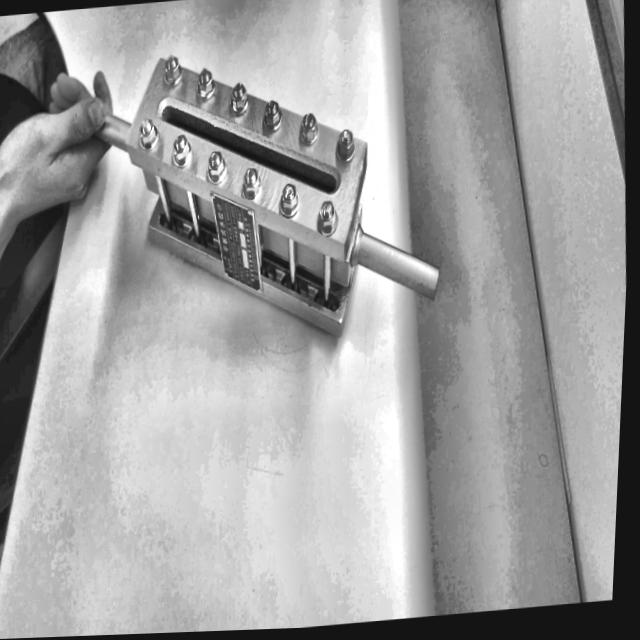ShuiWeiQi_12: (98, 18, 458, 363)
